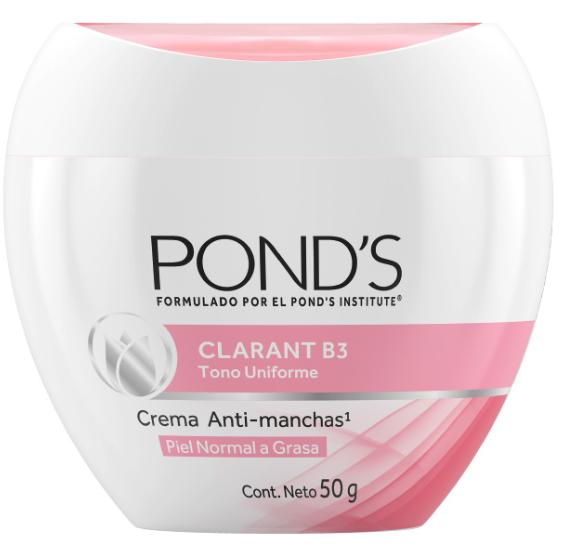brand: (142, 221, 408, 295)
extra_detail: (133, 401, 349, 433)
net_weight: (319, 471, 364, 509)
product_name: (190, 336, 352, 381)
